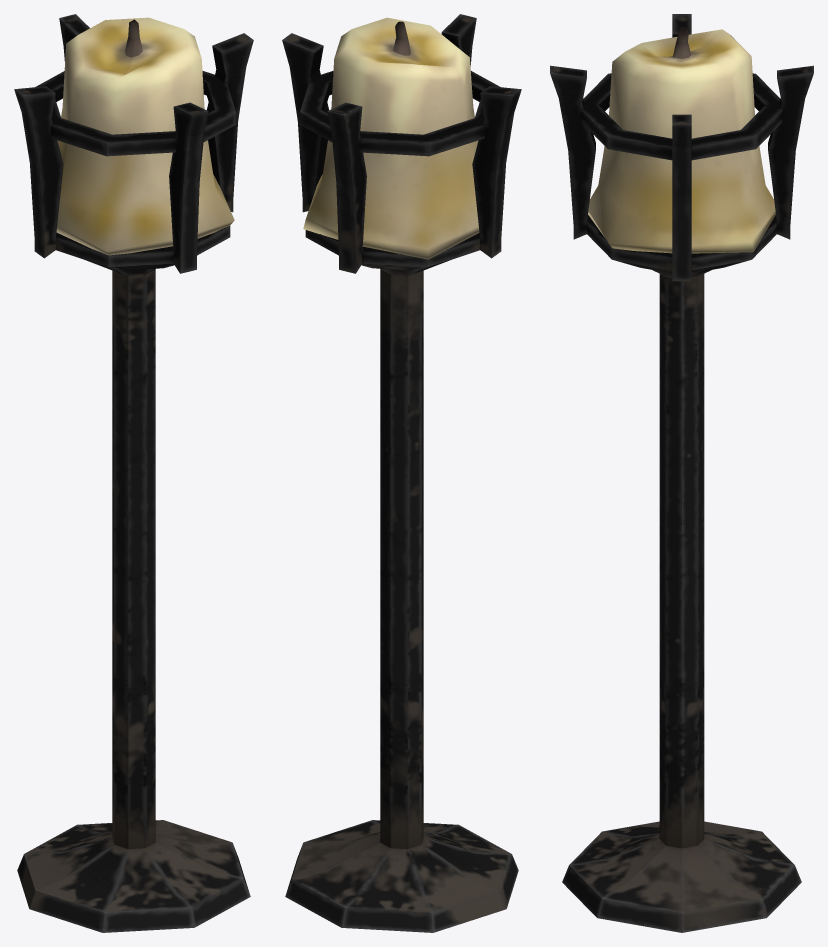
Rendered from candle_holder1.fbx.
3 renders of one model, left to right at view 1: azimuth 30°, elevation 25°; view 2: azimuth 150°, elevation 25°; view 3: azimuth 270°, elevation 25°, orthographic.
Parts seen in each view (by area): view 1: candleHolder1, candleHolder1_candle; view 2: candleHolder1, candleHolder1_candle; view 3: candleHolder1, candleHolder1_candle.
Part boxes in pixels (x1,y1,x2,y2): candleHolder1: (14,14,253,932); candleHolder1_candle: (56,17,234,255); candleHolder1: (282,14,521,932); candleHolder1_candle: (303,17,479,259); candleHolder1: (550,14,813,932); candleHolder1_candle: (588,26,775,253).
Bounding box in the file's own units: 31.3 × 112 × 31.3.
